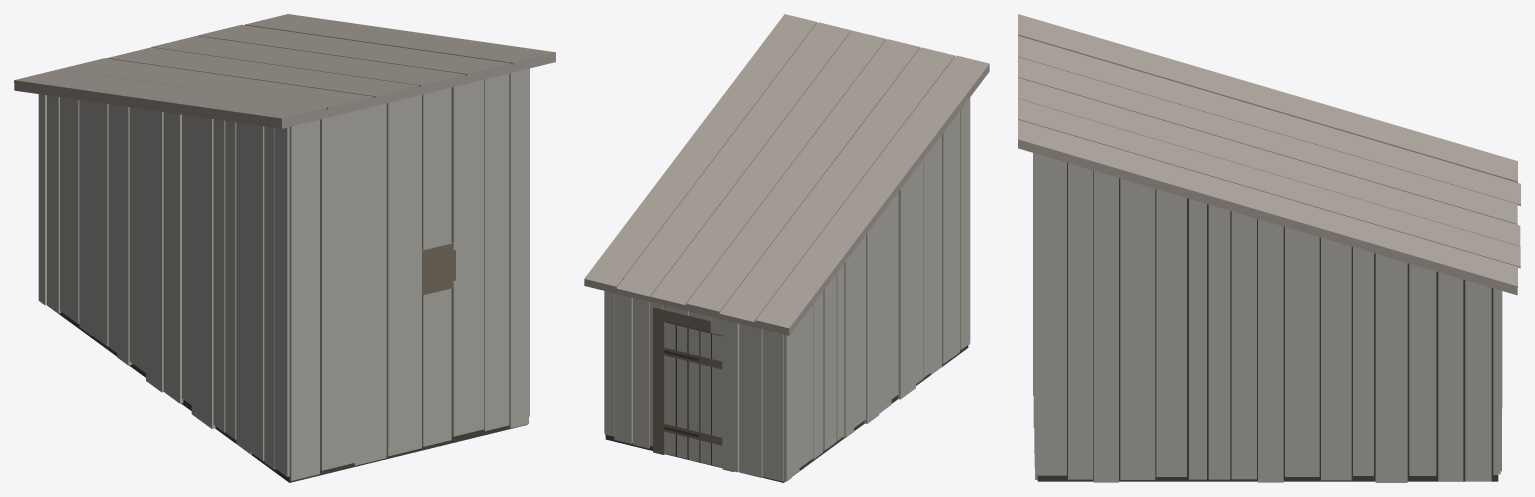
File: recon_1835_blk_washington_clinton_a4_14__inferred_1835.glb
3 renders of one model, left to right at view 1: azimuth 30°, elevation 25°; view 2: azimuth 150°, elevation 25°; view 3: azimuth 270°, elevation 25°, orthographic. The views are drawn at different scales.
Visible parts, largest first — view 1: recon_1835_blk_washington_clinton_a4_14__inferred_1835; view 2: recon_1835_blk_washington_clinton_a4_14__inferred_1835; view 3: recon_1835_blk_washington_clinton_a4_14__inferred_1835.
Part boxes in pixels (left/top/right/bottom): recon_1835_blk_washington_clinton_a4_14__inferred_1835: left=14, top=14, right=555, bottom=482; recon_1835_blk_washington_clinton_a4_14__inferred_1835: left=584, top=14, right=989, bottom=482; recon_1835_blk_washington_clinton_a4_14__inferred_1835: left=1018, top=14, right=1520, bottom=482.
Bounding box in the file's own units: 3.01 × 3.96 × 5.13.
